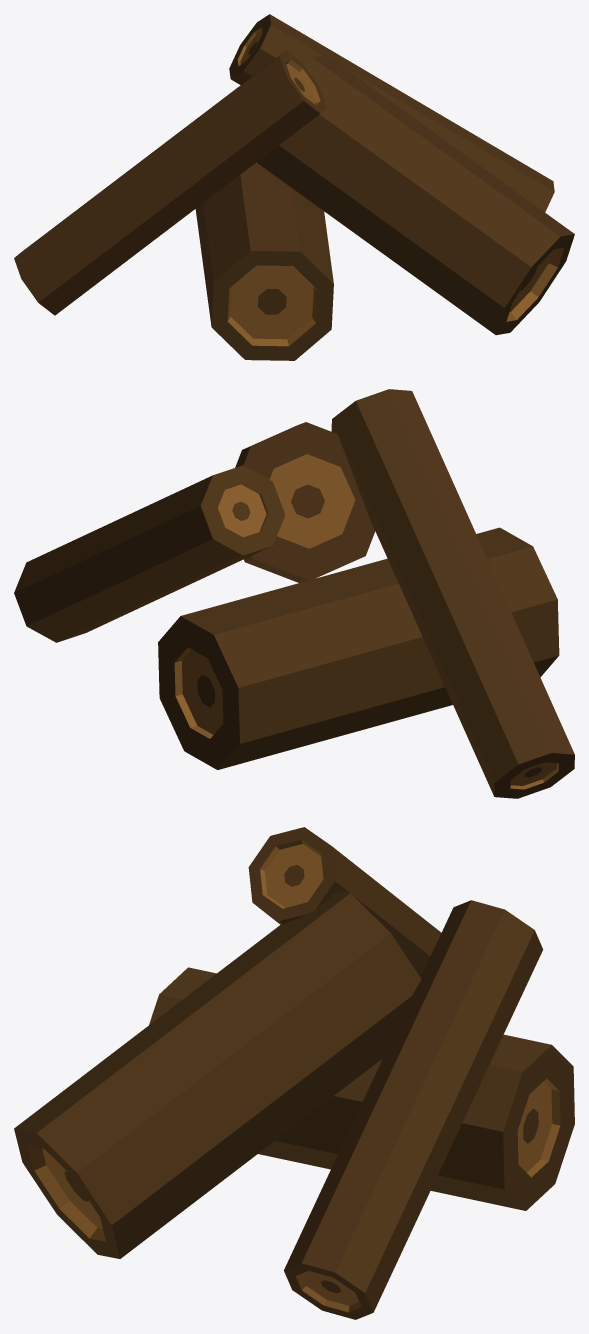
Rendered from Wood_fireplace.fbx.
3 renders of one model, top to bottom at view 1: azimuth 30°, elevation 25°; view 2: azimuth 150°, elevation 25°; view 3: azimuth 270°, elevation 25°, orthographic. The views are drawn at different scales.
Visible parts, largest first — view 1: Wood_fireplace; view 2: Wood_fireplace; view 3: Wood_fireplace.
Boxes of the visible parts, x1,y1,x2,y2 form: Wood_fireplace: (14,14,574,360); Wood_fireplace: (14,389,574,798); Wood_fireplace: (14,827,574,1319).
Bounding box in the file's own units: 0.6011 × 0.2989 × 0.4573.
